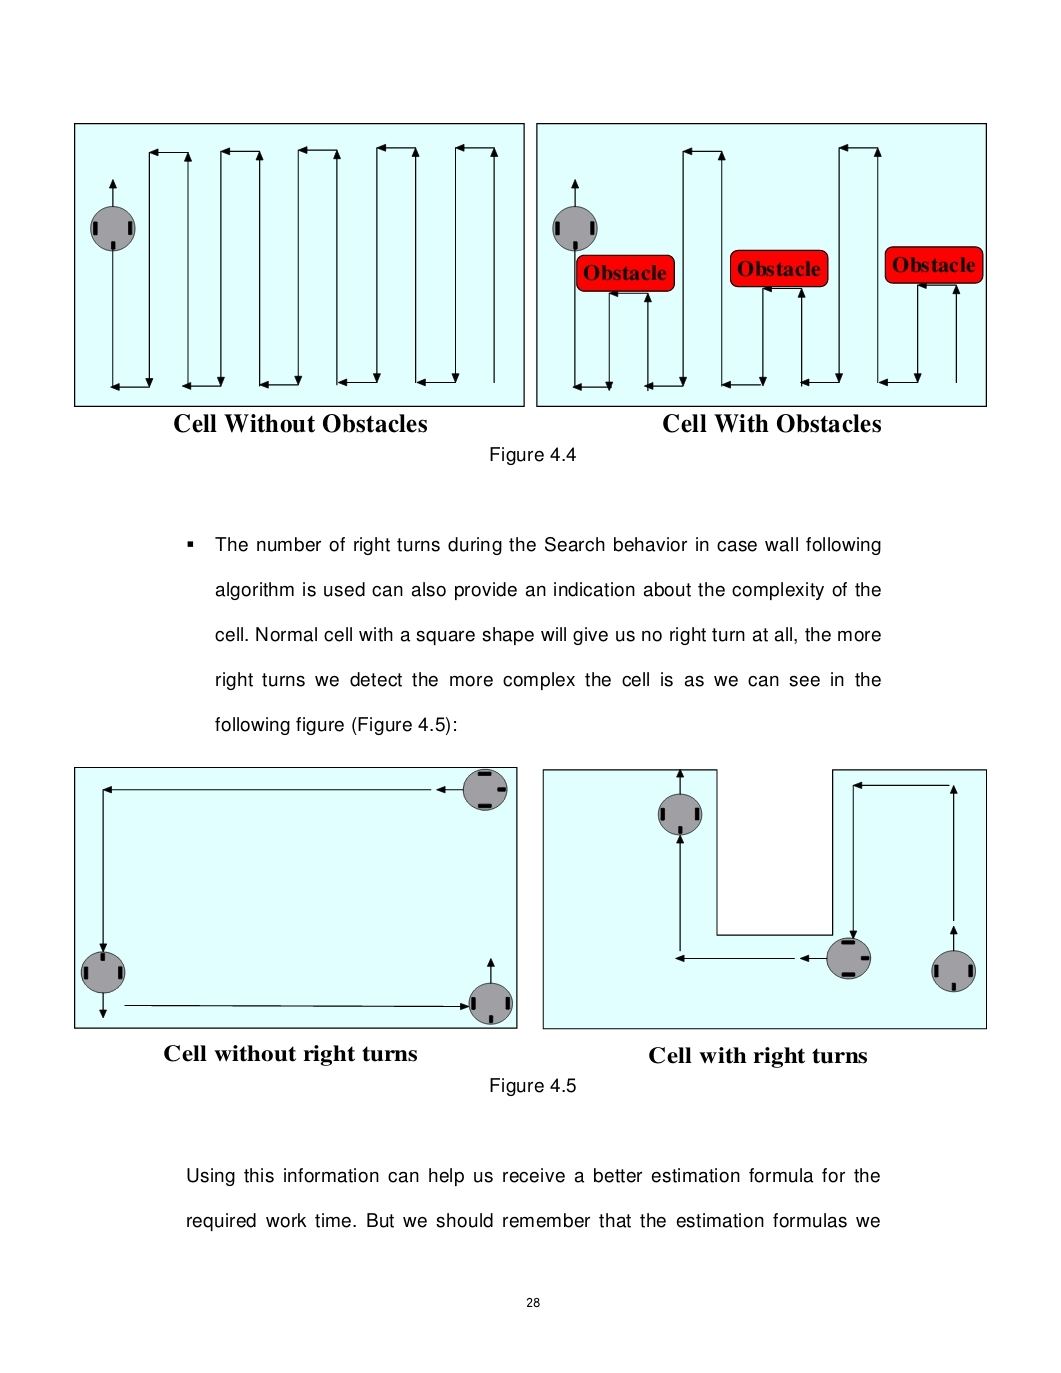figure: (74, 121, 524, 407), (536, 121, 986, 407), (74, 765, 517, 1029), (542, 768, 986, 1030)
